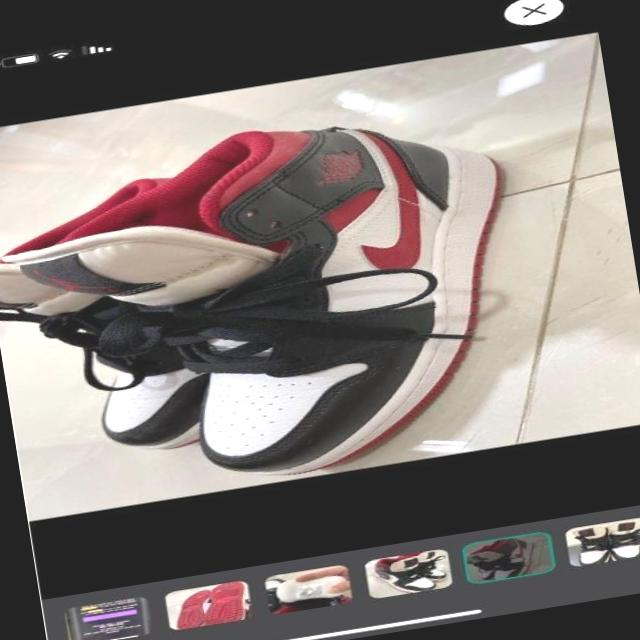nike_fake_jordan: (0, 92, 553, 515)
